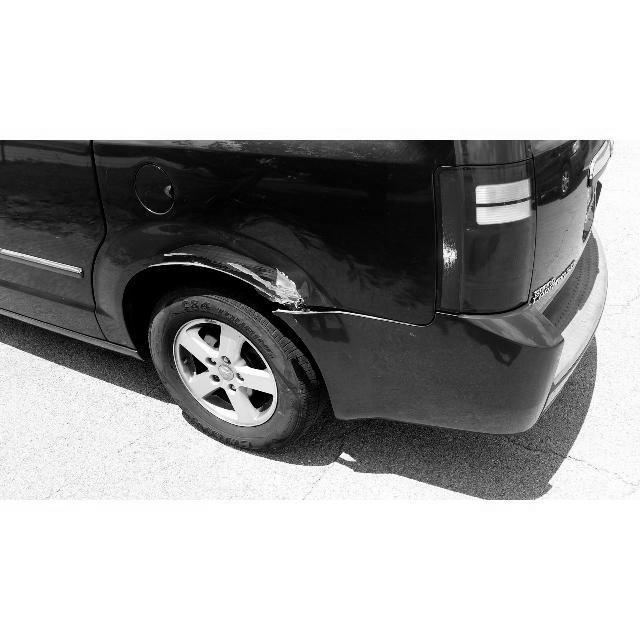quaterpanel-dent: (111, 140, 395, 326)
